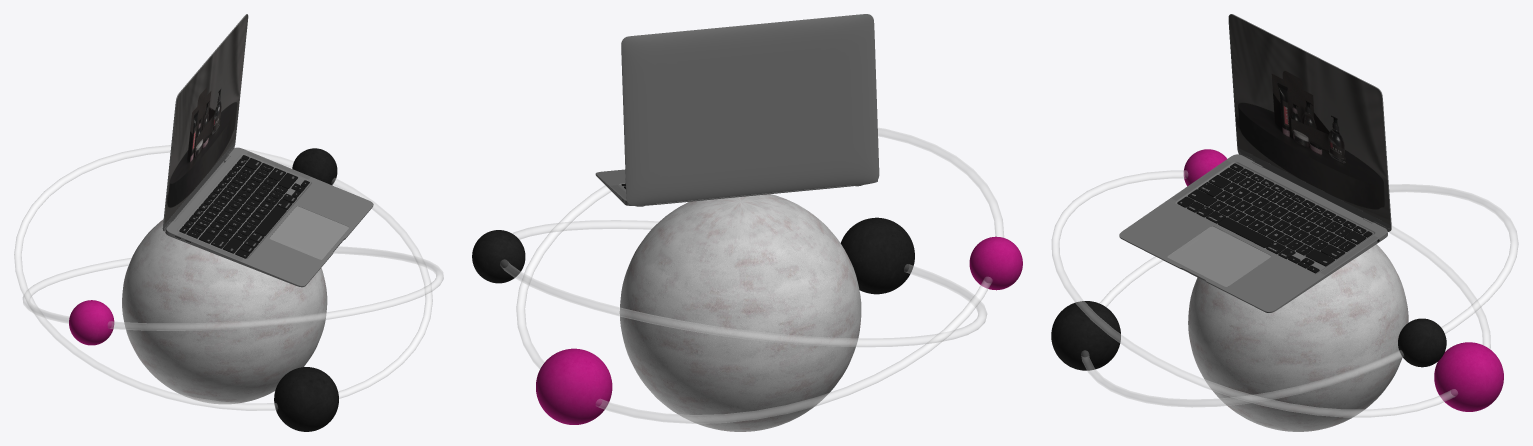
Rendered from GD_Comp2.glb.
The picture shows the model from 3 angles, left to right: view 1: azimuth 30°, elevation 25°; view 2: azimuth 150°, elevation 25°; view 3: azimuth 270°, elevation 25°; orthographic projection. The views are drawn at different scales.
Parts seen in each view (by area): view 1: Sphere (×3), Torus (×2), port_frames_n3d, display_n3d, keyboard_n3d; view 2: Sphere (×3), port_frames_n3d, Torus (×2); view 3: Sphere (×3), display_n3d, port_frames_n3d, Torus (×2), keyboard_n3d.
Part boxes in pixels (box(x1,y1,x2,y2)): Sphere (×3): box(69, 148, 338, 431); Torus (×2): box(14, 145, 443, 410); port_frames_n3d: box(162, 14, 373, 287); display_n3d: box(164, 15, 247, 224); keyboard_n3d: box(164, 142, 309, 258); Sphere (×3): box(472, 194, 1022, 431); port_frames_n3d: box(595, 14, 879, 205); Torus (×2): box(500, 128, 1003, 423); Sphere (×3): box(1051, 149, 1503, 431); display_n3d: box(1229, 15, 1390, 224); port_frames_n3d: box(1119, 14, 1391, 312); Torus (×2): box(1052, 170, 1518, 417); keyboard_n3d: box(1177, 148, 1390, 273).
Size of the model in its own units: 2.05 by 1.78 by 2.05.
8 materials, 6 textured.
